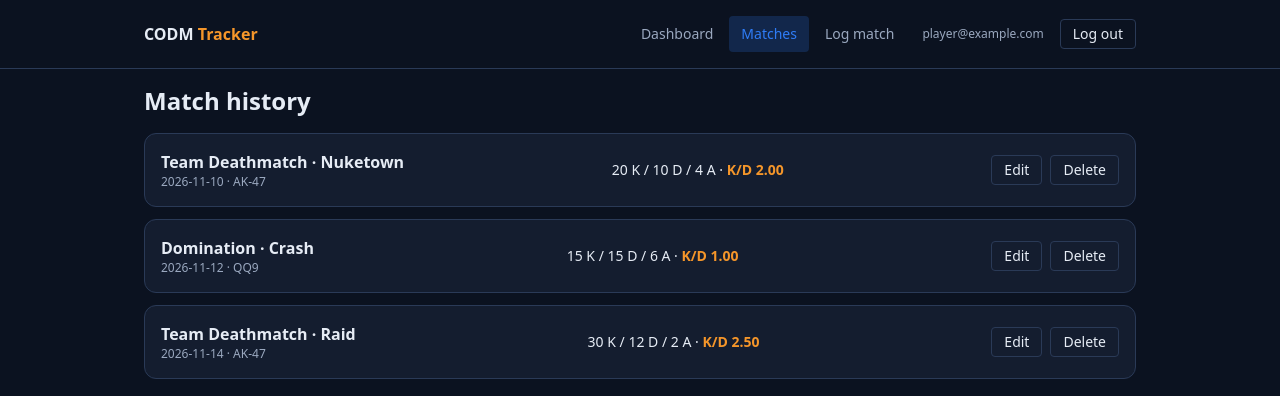
Scenario: match history › deletes a match only after confirming
This screenshot has width=1280, height=396.
Click the button "Delete" in the row of "Nuketown" at (1085, 170), box [1050,155,1119,185]
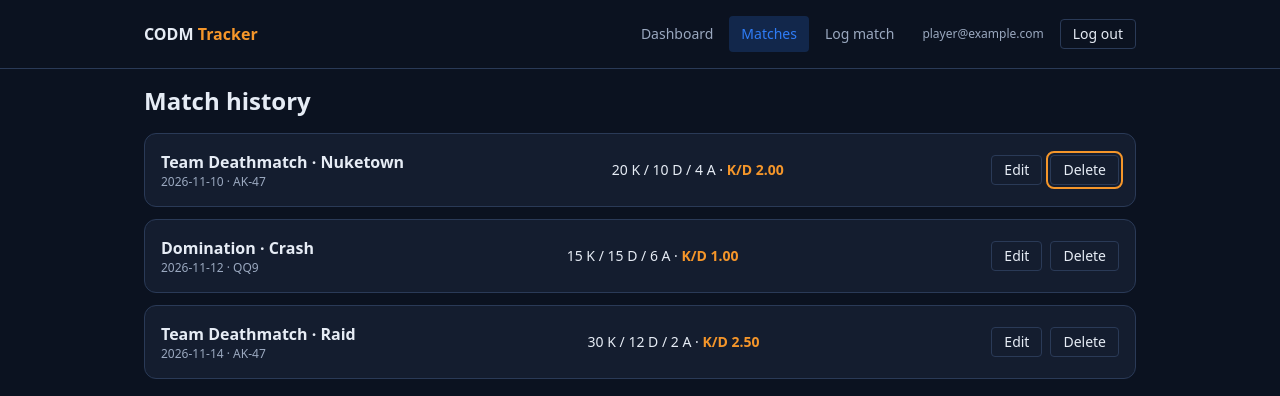
Expected: the number of list items is 3, [144,133,1136,207]; [144,219,1136,293]; [144,305,1136,379]
Click the button "Delete" in the row of "Nuketown" at (1085, 170), box [1050,155,1119,185]
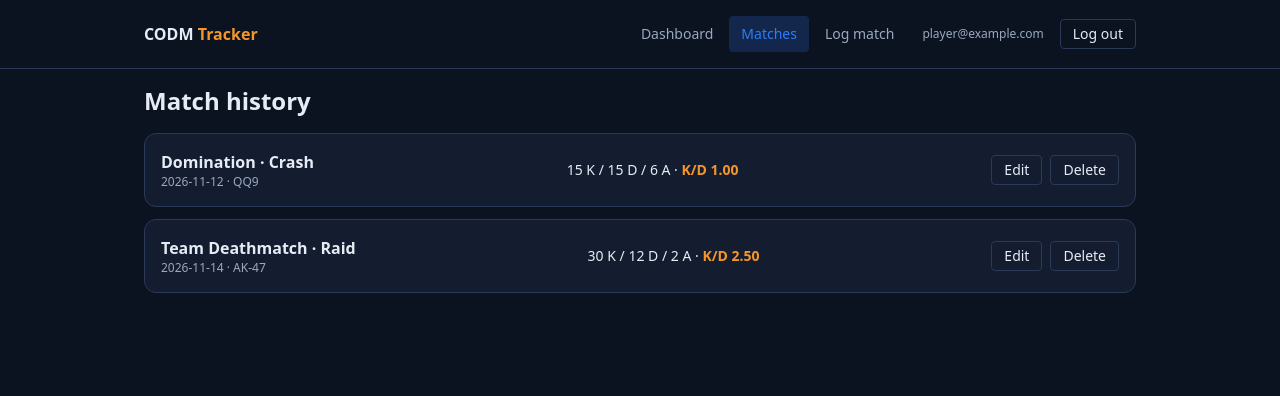
Expected: the number of list items is 2, [144,133,1136,207]; [144,219,1136,293]
